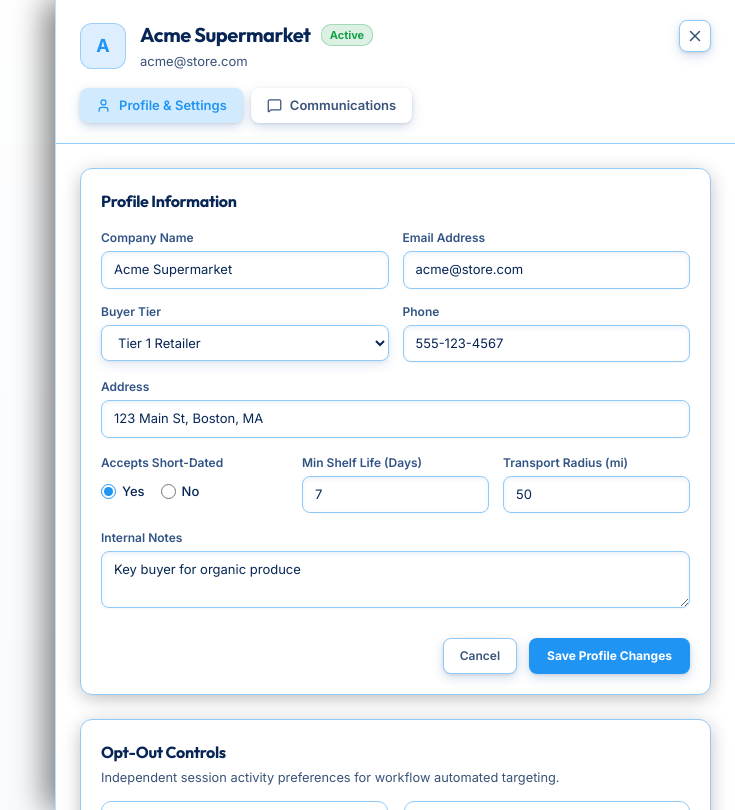
Test: 02 — Buyer Detail Drawer Component › Slice 5: Communications Tab › renders empty state when no email threads exist for buyer
Step 1. Click the button "Communications" → {"x": 332, "y": 105}, box top-left (251, 88), bottom-right (412, 123)
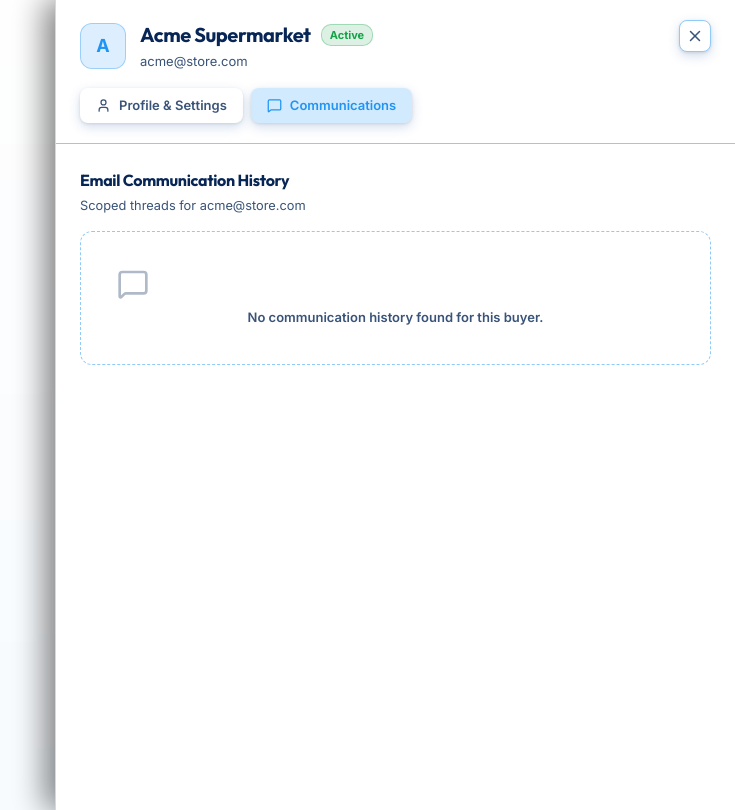
Result: the element with test id "comms-empty-state" is shown at top-left (80, 231), bottom-right (711, 365)
Result: the text "No communication history found for this buyer." is shown at top-left (248, 309), bottom-right (544, 325)
